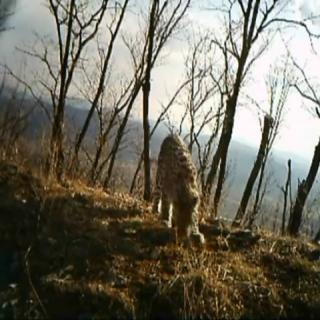Leopard: (148, 123, 208, 273)
